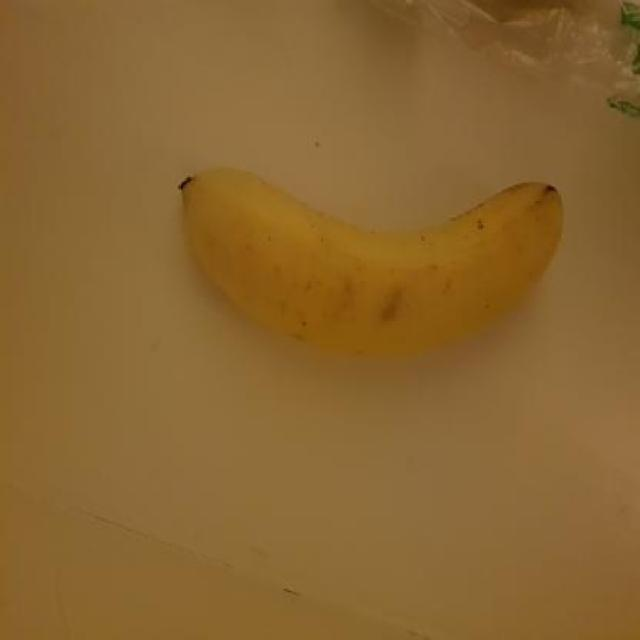Banana: (168, 152, 572, 382)
